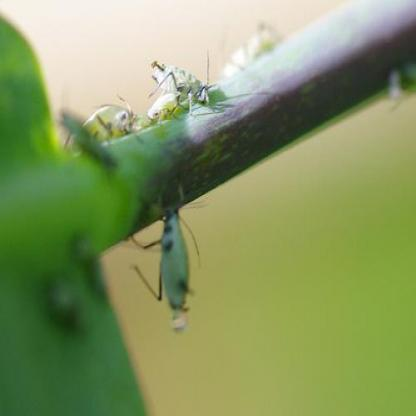aphid: (128, 201, 203, 314), (148, 43, 226, 104), (61, 93, 142, 145), (144, 89, 190, 120)
